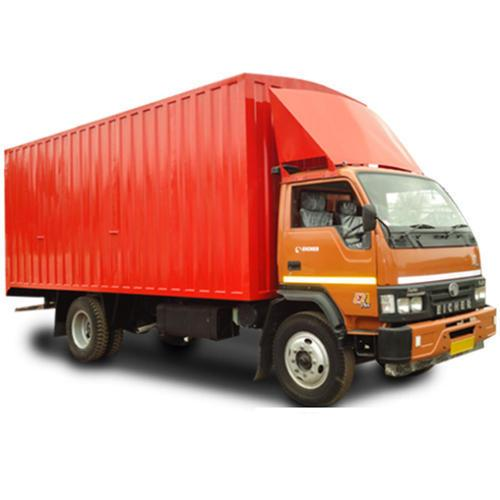truck: (4, 72, 498, 408)
